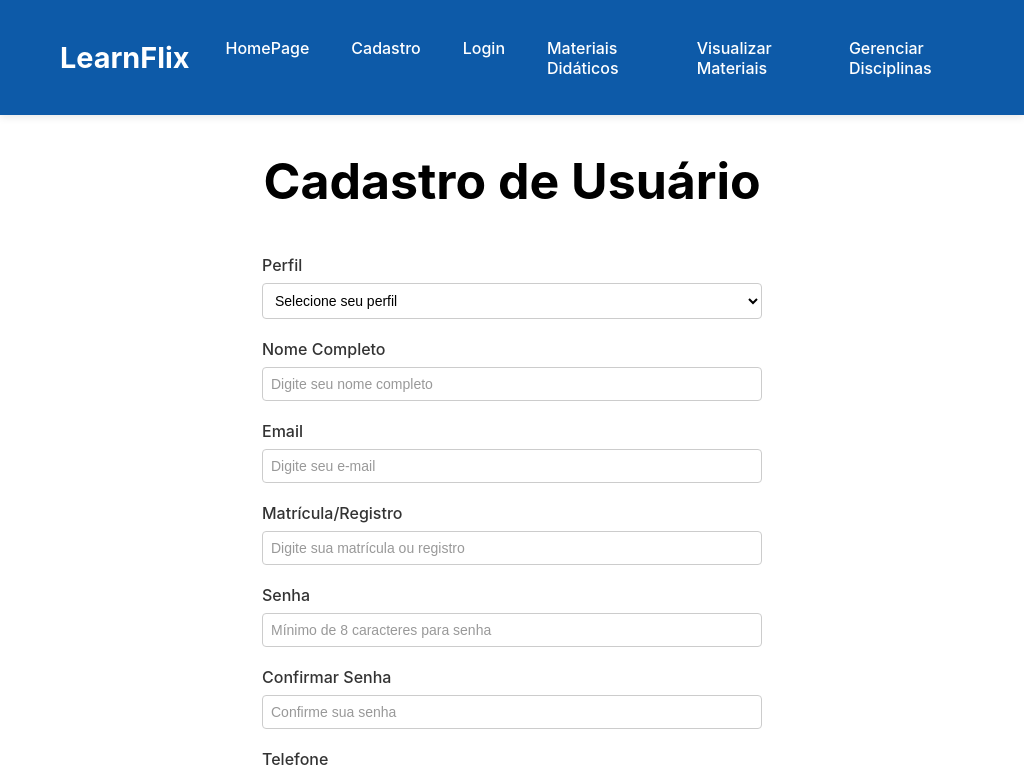
it: Formulário de Cadastro › Deve exibir erro ao digitar nome com menos de 3 caracteres
This screenshot has width=1024, height=768.
Step 1. Type "ab" into the field with test id "input-nome" → (512, 384), box [262,367,762,401]
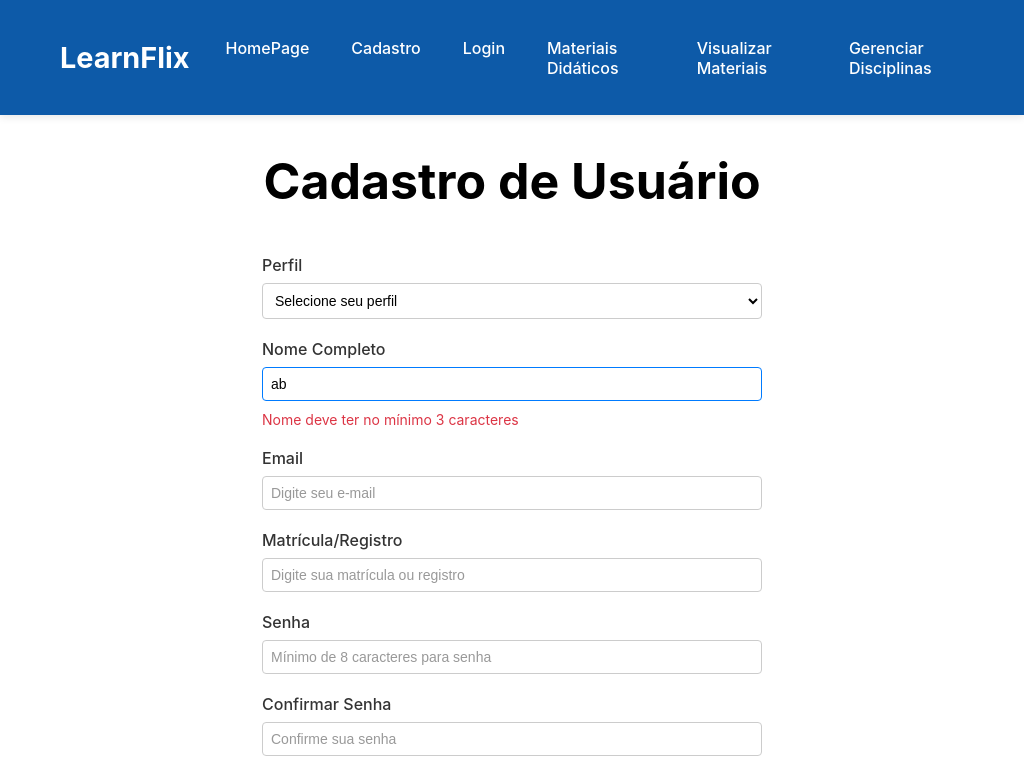
Expected: the text "Nome deve ter no mínimo 3 caracteres" is shown, [262,411,519,428]
